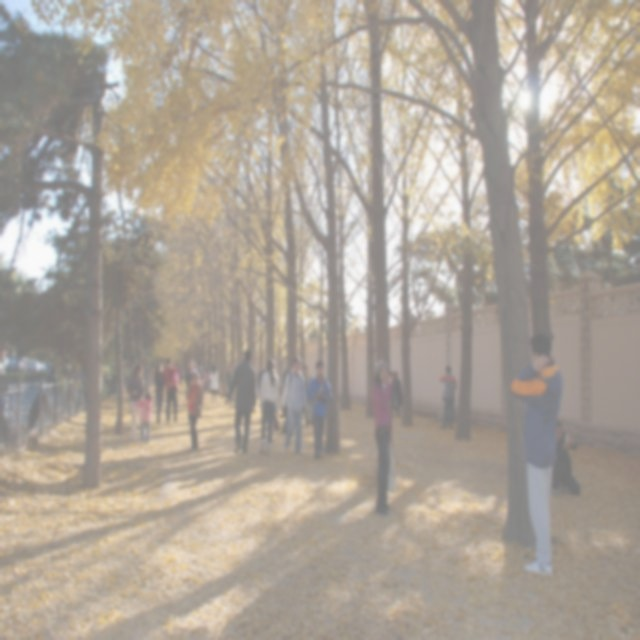pessoa: (509, 330, 564, 580), (369, 358, 396, 516), (222, 348, 258, 458), (278, 354, 309, 458), (304, 357, 334, 461), (256, 356, 281, 458), (550, 418, 582, 497), (184, 369, 205, 454), (126, 362, 144, 444), (436, 364, 458, 431), (162, 356, 180, 428), (134, 390, 154, 446), (152, 361, 166, 428), (388, 370, 404, 418), (224, 363, 236, 407), (303, 364, 314, 411), (207, 363, 219, 406), (184, 358, 198, 389), (46, 356, 56, 393), (256, 368, 265, 401), (202, 365, 210, 392), (196, 358, 206, 379), (174, 364, 184, 384), (282, 368, 290, 387), (192, 360, 198, 376)
